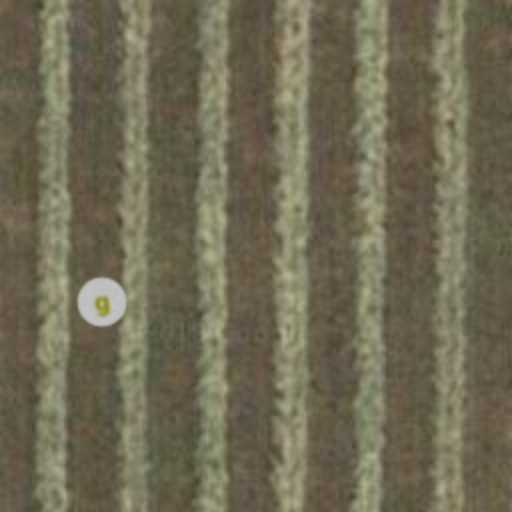circle: (72, 272, 132, 332)
